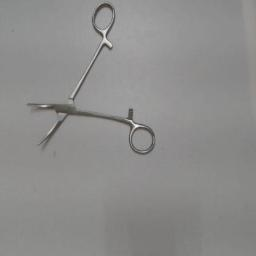Crile Artery Forceps: (22, 0, 158, 158)
